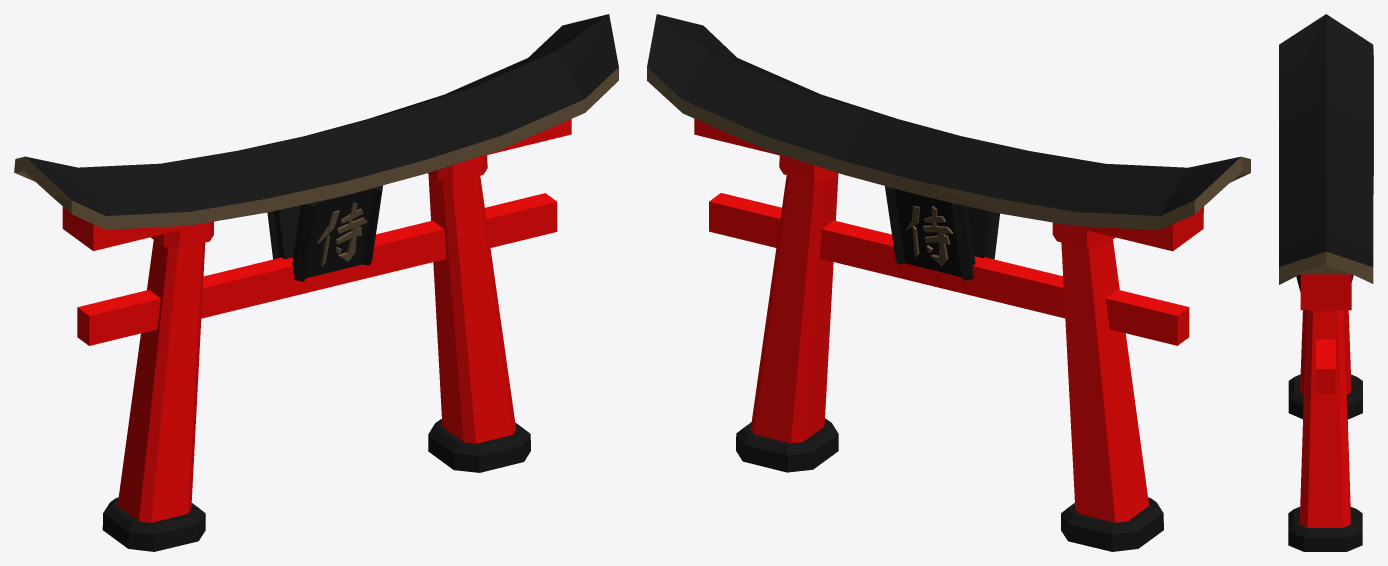
Rendered from Torii.FBX.
3 views of the same model, side by side, from view 1: azimuth 30°, elevation 25°; view 2: azimuth 150°, elevation 25°; view 3: azimuth 270°, elevation 25° (orthographic). The views are drawn at different scales.
Parts seen in each view (by area): view 1: Torii; view 2: Torii; view 3: Torii.
Part boxes in pixels (x1=…): Torii: x1=14, y1=14, x2=618, y2=551; Torii: x1=647, y1=14, x2=1250, y2=551; Torii: x1=1279, y1=14, x2=1373, y2=551.
Size of the model in its own units: 11.17 by 7.39 by 1.88.
